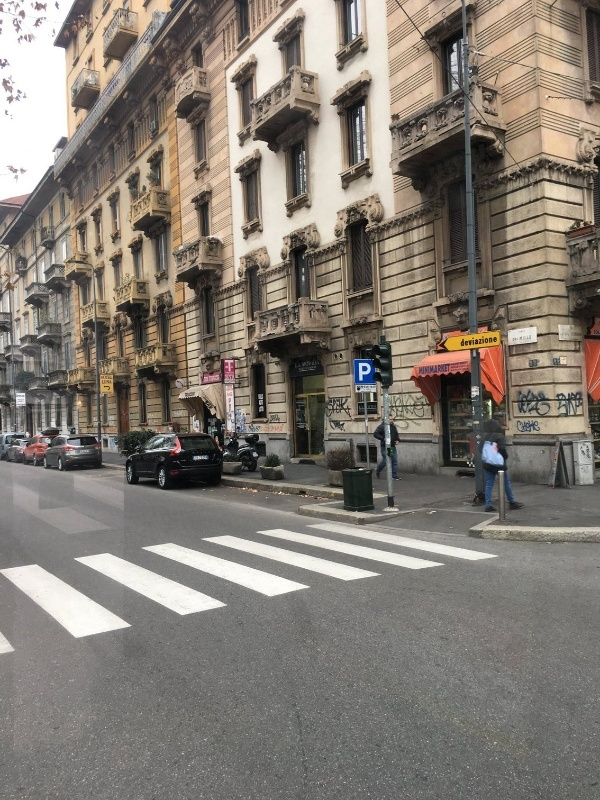text: (417, 390, 433, 418), (401, 390, 416, 418), (529, 390, 544, 416), (561, 392, 576, 418), (337, 397, 352, 420), (389, 390, 400, 418), (517, 390, 528, 416), (326, 397, 336, 420), (305, 408, 320, 423), (358, 362, 368, 384), (229, 398, 240, 418), (481, 335, 497, 348), (545, 390, 553, 416), (577, 392, 585, 418), (465, 335, 480, 348), (433, 363, 448, 375), (225, 359, 240, 371), (337, 417, 347, 434), (148, 413, 160, 426), (529, 420, 541, 433), (420, 363, 432, 375), (451, 361, 464, 372), (517, 420, 528, 433), (305, 360, 320, 368), (329, 417, 336, 434), (296, 409, 304, 423), (513, 335, 528, 342), (556, 392, 560, 418), (209, 375, 220, 384), (227, 385, 240, 392), (259, 399, 272, 406), (259, 406, 272, 413), (177, 410, 187, 419), (258, 394, 272, 400), (227, 392, 240, 398), (273, 414, 280, 425), (561, 332, 576, 337), (305, 366, 317, 371), (102, 379, 112, 385), (296, 362, 304, 369), (18, 399, 32, 403), (465, 361, 470, 372), (101, 375, 112, 380), (209, 400, 214, 411), (296, 423, 304, 429), (561, 357, 576, 360), (369, 362, 371, 384), (185, 392, 192, 398), (518, 330, 528, 334), (461, 335, 464, 348), (204, 375, 208, 384), (593, 330, 600, 335), (369, 385, 376, 390), (369, 405, 377, 409), (102, 391, 112, 394), (17, 404, 26, 407), (359, 406, 368, 409), (577, 332, 582, 337), (299, 366, 304, 371), (449, 363, 451, 375), (17, 395, 25, 398), (270, 414, 272, 425), (529, 335, 532, 342), (193, 392, 196, 398), (174, 410, 176, 419), (298, 404, 304, 407), (302, 360, 304, 368), (305, 423, 307, 429), (366, 385, 368, 390), (367, 405, 368, 409)
